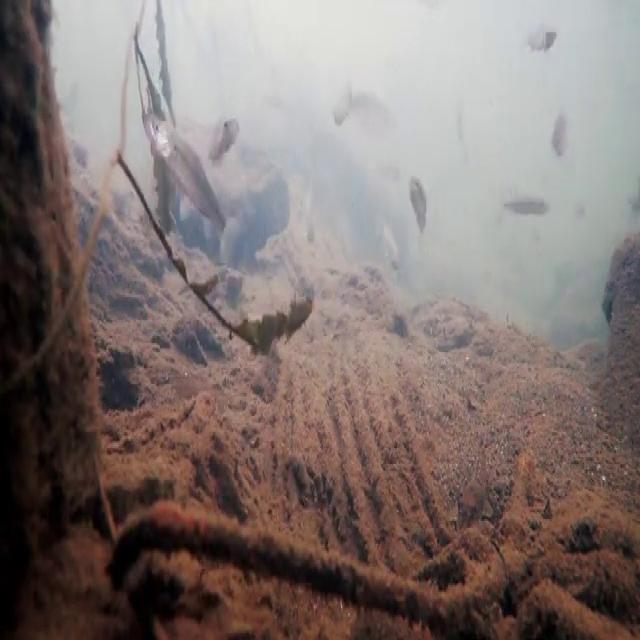Cakil Baligi: (144, 111, 224, 233), (501, 186, 552, 223), (404, 171, 429, 235)
